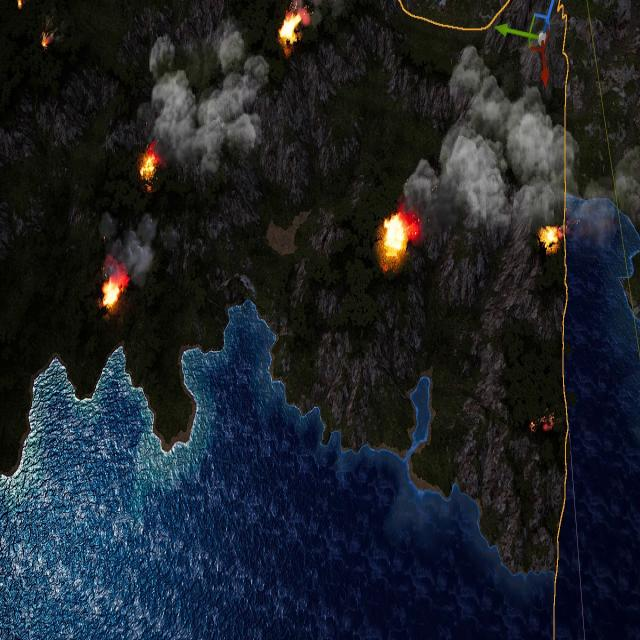fire: (383, 213, 408, 259), (102, 276, 126, 309), (279, 10, 302, 44), (140, 148, 158, 180), (539, 226, 559, 248), (538, 414, 552, 432), (41, 30, 51, 49), (530, 419, 541, 432), (15, 0, 24, 9)
smoke: (396, 49, 562, 231), (140, 18, 270, 173), (565, 125, 617, 250), (101, 212, 181, 284), (294, 0, 351, 20)
